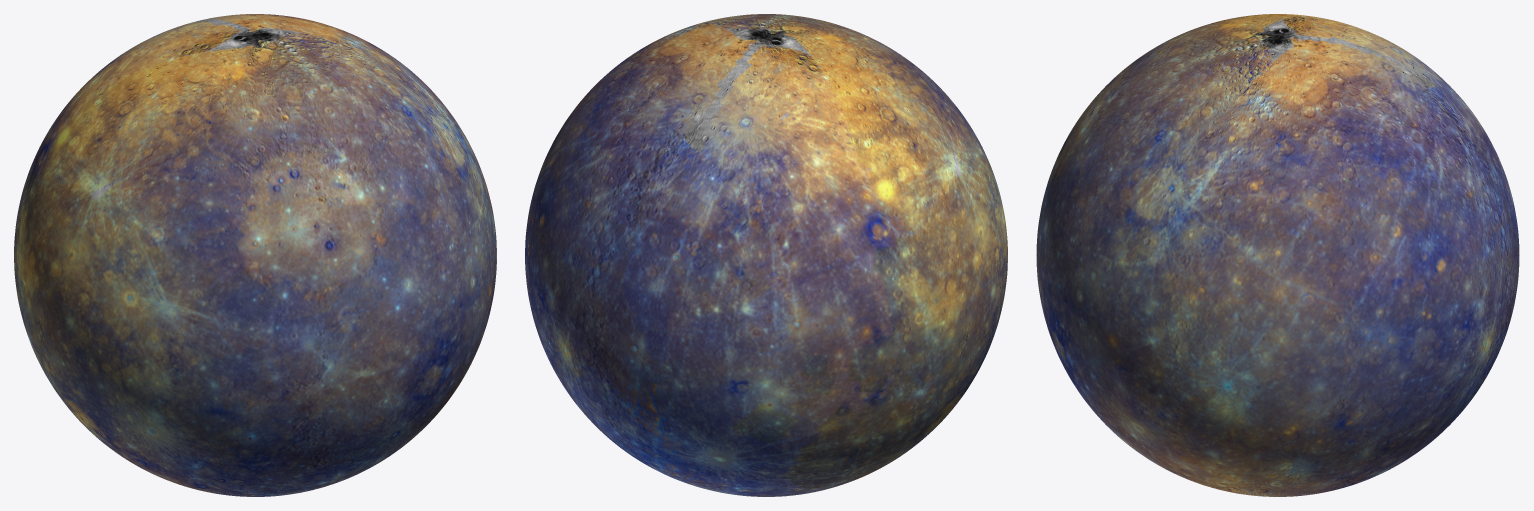
The model's file is mercury.glb.
3 views of the same model, side by side, from view 1: azimuth 30°, elevation 25°; view 2: azimuth 150°, elevation 25°; view 3: azimuth 270°, elevation 25° (orthographic).
Visible parts, largest first — view 1: Object_2; view 2: Object_2; view 3: Object_2.
Boxes of the visible parts, x1,y1,x2,y2 form: Object_2: (14, 14, 496, 496); Object_2: (525, 14, 1007, 496); Object_2: (1036, 14, 1519, 496).
Bounding box in the file's own units: 2 × 2 × 2.
Materials: 1 (1 with a texture image).
